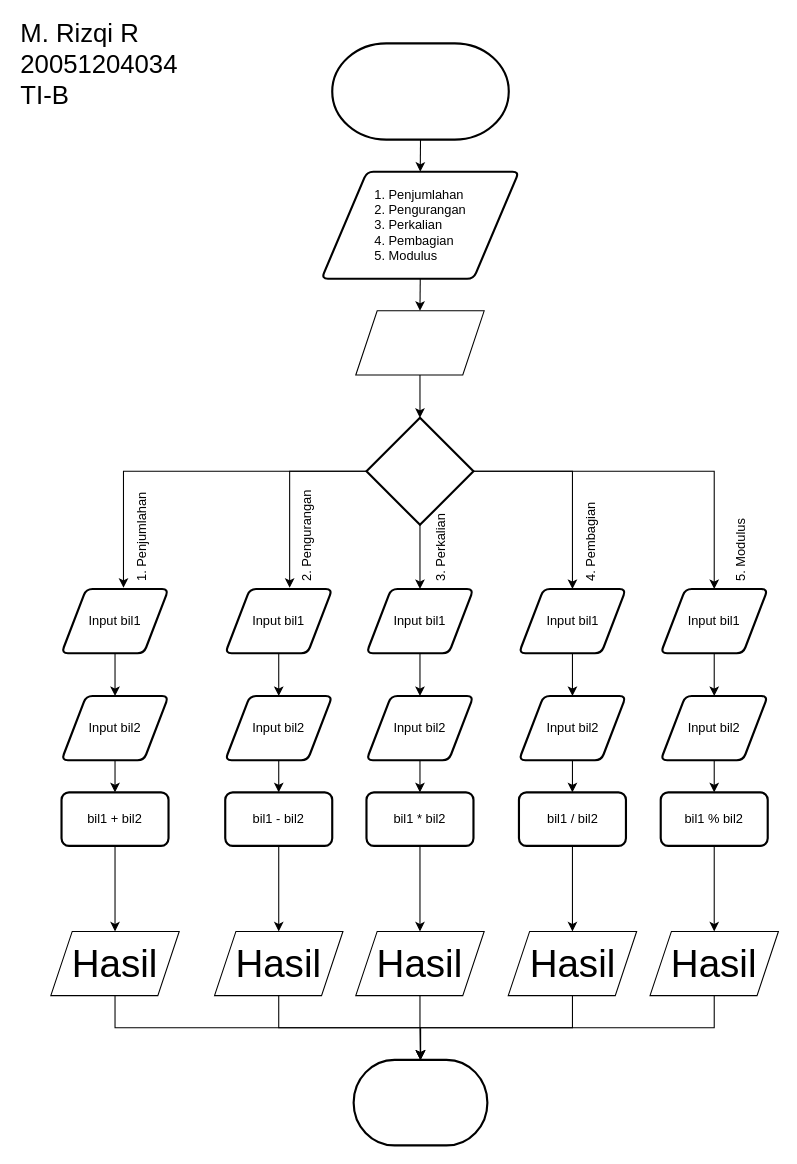
The diagram is 797 pixels wide and 1164 high, and some of its shapes have lost their labels. Each missing label, with the centre of its shape:
"End" goes at [420,1102].
"Input pilihan dengan angka" goes at [419,342].
"Pilih Opsi" goes at [419,470].
"Start" goes at [420,91].
